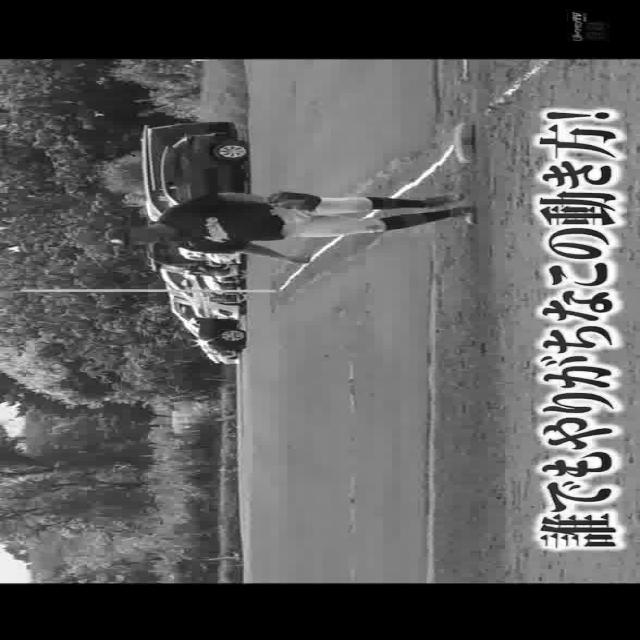base: (454, 121, 475, 163)
baseball_glove: (270, 190, 320, 208)
shoe: (426, 188, 470, 207), (452, 204, 478, 226)
